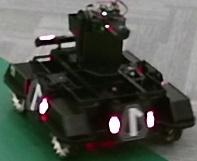armor_1: (109, 111, 155, 134)
